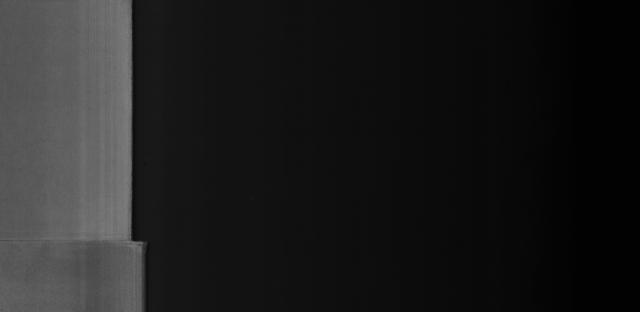welding_line: (2, 227, 166, 252)
